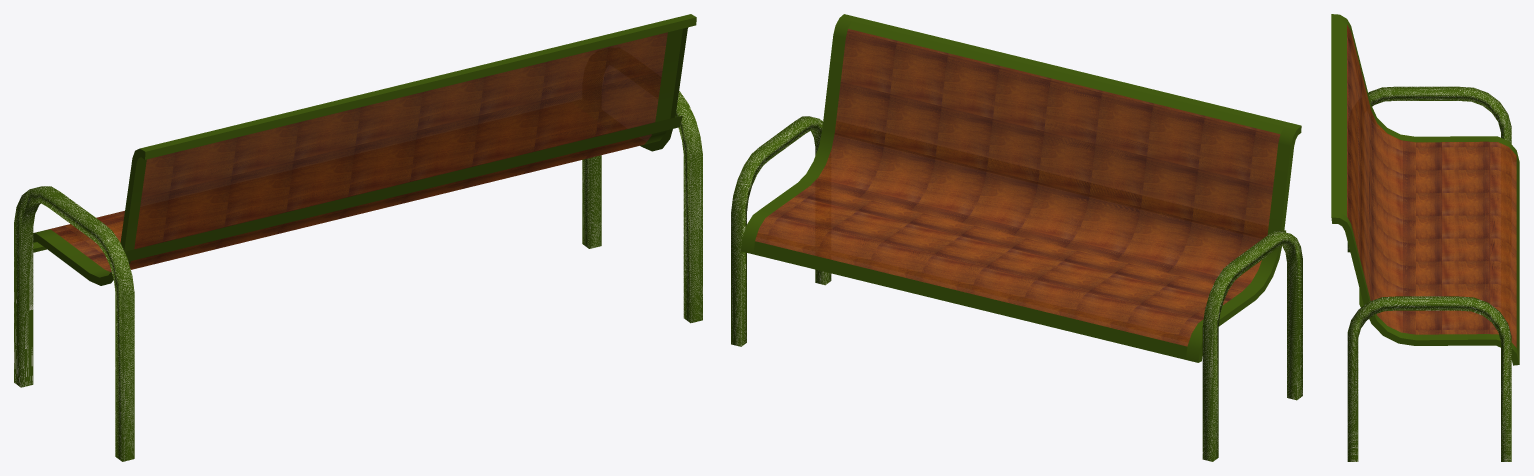
3 views of the same model, side by side, from view 1: azimuth 30°, elevation 25°; view 2: azimuth 150°, elevation 25°; view 3: azimuth 270°, elevation 25° (orthographic). The views are drawn at different scales.
Visible parts, largest first — view 1: mesh6_mesh6-geometry, mesh3_mesh3-geometry, mesh5_mesh5-geometry, mesh1_mesh1-geometry, mesh2_mesh2-geometry; view 2: mesh6_mesh6-geometry, mesh3_mesh3-geometry, mesh1_mesh1-geometry, mesh2_mesh2-geometry; view 3: mesh6_mesh6-geometry, mesh3_mesh3-geometry, mesh2_mesh2-geometry, mesh1_mesh1-geometry.
Boxes of the visible parts, box(x1,y1,x2,y2) form: mesh6_mesh6-geometry: box(36, 17, 696, 271); mesh3_mesh3-geometry: box(14, 91, 702, 461); mesh5_mesh5-geometry: box(126, 115, 682, 261); mesh1_mesh1-geometry: box(33, 145, 160, 285); mesh2_mesh2-geometry: box(640, 14, 696, 151); mesh6_mesh6-geometry: box(753, 17, 1288, 359); mesh3_mesh3-geometry: box(731, 116, 1302, 461); mesh1_mesh1-geometry: box(1186, 122, 1301, 362); mesh2_mesh2-geometry: box(741, 14, 856, 254); mesh6_mesh6-geometry: box(1331, 19, 1519, 358); mesh3_mesh3-geometry: box(1347, 86, 1511, 461); mesh2_mesh2-geometry: box(1331, 212, 1519, 365); mesh1_mesh1-geometry: box(1331, 14, 1519, 166).
Size of the model in its own units: 0.8432 by 0.4373 by 0.3129.
